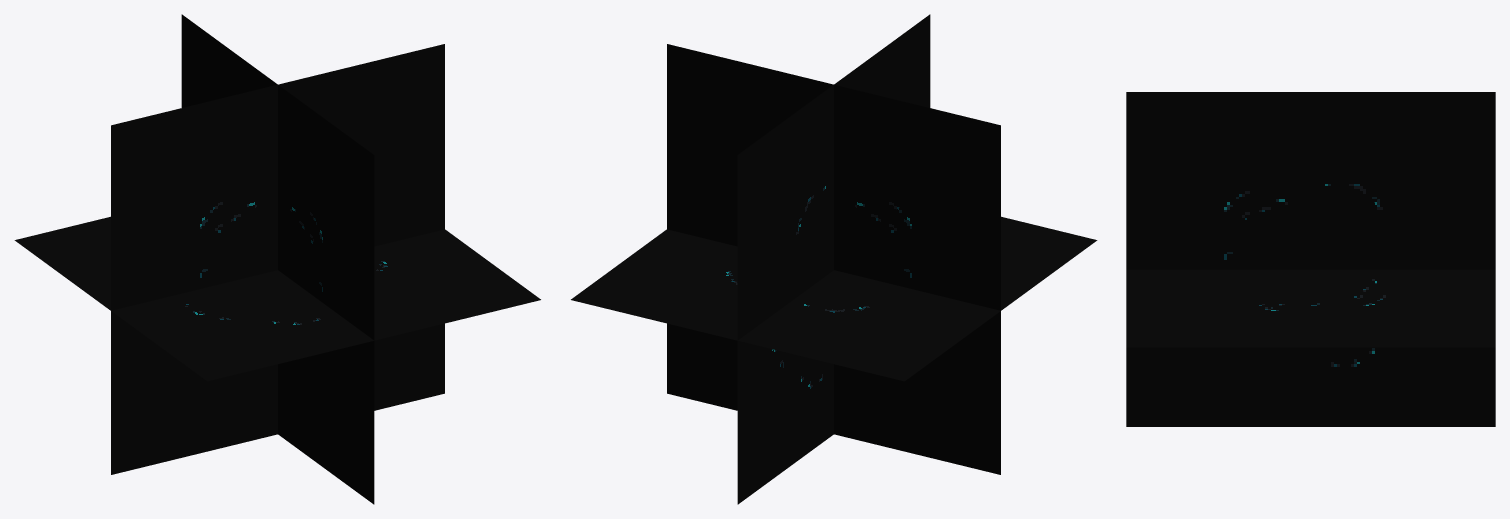
The model's file is vfx_gale_dash_13.gltf.
The picture shows the model from 3 angles, left to right: view 1: azimuth 30°, elevation 25°; view 2: azimuth 150°, elevation 25°; view 3: azimuth 270°, elevation 25°; orthographic projection. The views are drawn at different scales.
Visible parts, largest first — view 1: cube (×3); view 2: cube (×3); view 3: cube (×2).
Boxes of the visible parts, bbox=[...] form: cube (×3): bbox=[14, 14, 540, 504]; cube (×3): bbox=[571, 14, 1097, 504]; cube (×2): bbox=[1126, 92, 1495, 426].
Size of the model in its own units: 2.06 by 2.06 by 2.06.
1 material, 1 textured.
